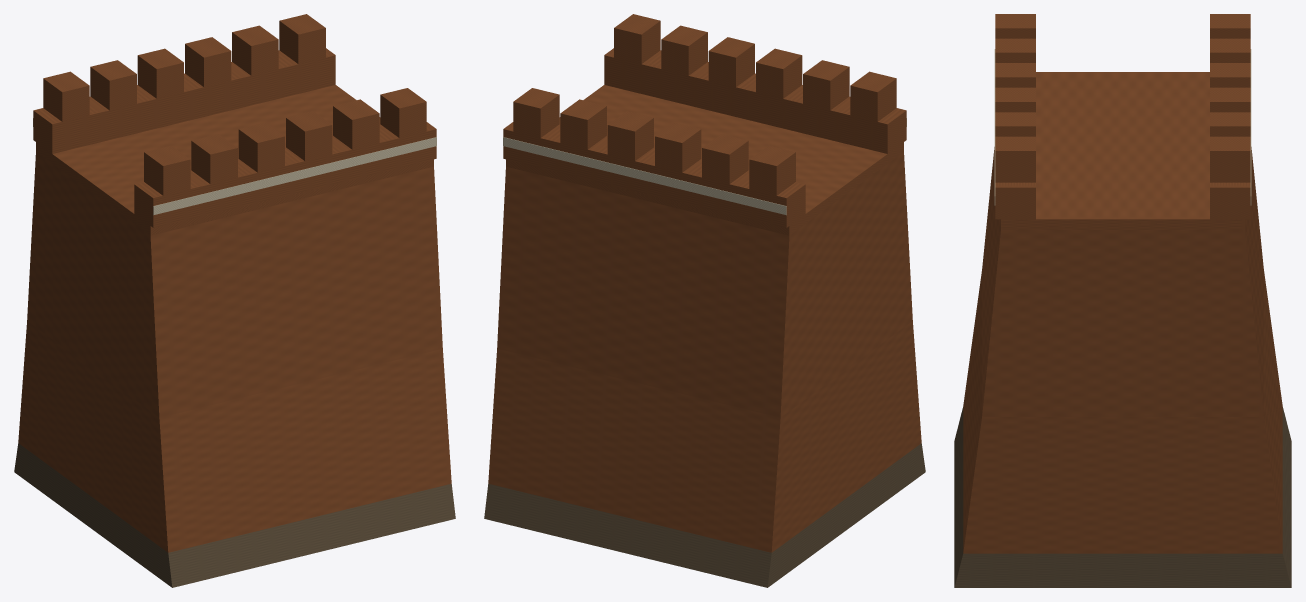
The model's file is Berber_Wall_Age2_straight_6m.fbx.
The picture shows the model from 3 angles, left to right: view 1: azimuth 30°, elevation 25°; view 2: azimuth 150°, elevation 25°; view 3: azimuth 270°, elevation 25°; orthographic projection. The views are drawn at different scales.
Visible parts, largest first — view 1: straight_6m_rammed_curtain_upper, straight_6m_rammed_curtain_lower, straight_6m_battered_stone_foot, straight_6m_walk_deck, straight_6m_parapet.001, straight_6m_parapet, straight_6m_owner_painted_band, straight_6m_merlon.002, straight_6m_merlon.006, straight_6m_merlon.007, straight_6m_merlon.004, straight_6m_merlon.011 (+7 smaller); view 2: straight_6m_rammed_curtain_upper, straight_6m_rammed_curtain_lower, straight_6m_battered_stone_foot, straight_6m_walk_deck, straight_6m_parapet, straight_6m_parapet.001, straight_6m_owner_painted_band.001, straight_6m_merlon, straight_6m_merlon.008, straight_6m_merlon.001, straight_6m_merlon.005, straight_6m_merlon.010 (+7 smaller); view 3: straight_6m_rammed_curtain_upper, straight_6m_rammed_curtain_lower, straight_6m_walk_deck, straight_6m_battered_stone_foot, straight_6m_merlon.005, straight_6m_merlon.011, straight_6m_parapet, straight_6m_parapet.001, straight_6m_merlon.003, straight_6m_merlon.009, straight_6m_merlon, straight_6m_merlon.001 (+6 smaller).
Boxes of the visible parts, left/top/right/bottom form: straight_6m_rammed_curtain_upper: left=27, top=152, right=442, bottom=417; straight_6m_rammed_curtain_lower: left=18, top=321, right=451, bottom=552; straight_6m_battered_stone_foot: left=14, top=443, right=455, bottom=587; straight_6m_walk_deck: left=36, top=85, right=433, bottom=235; straight_6m_parapet.001: left=33, top=48, right=335, bottom=153; straight_6m_parapet: left=134, top=122, right=436, bottom=227; straight_6m_owner_painted_band: left=153, top=137, right=436, bottom=215; straight_6m_merlon.002: left=238, top=122, right=284, bottom=172; straight_6m_merlon.006: left=43, top=71, right=89, bottom=121; straight_6m_merlon.007: left=90, top=60, right=136, bottom=110; straight_6m_merlon.004: left=333, top=99, right=379, bottom=149; straight_6m_merlon.011: left=279, top=14, right=325, bottom=64; straight_6m_rammed_curtain_upper: left=497, top=152, right=912, bottom=417; straight_6m_rammed_curtain_lower: left=488, top=321, right=921, bottom=552; straight_6m_battered_stone_foot: left=484, top=443, right=925, bottom=587; straight_6m_walk_deck: left=506, top=85, right=903, bottom=235; straight_6m_parapet: left=604, top=48, right=906, bottom=153; straight_6m_parapet.001: left=503, top=122, right=805, bottom=227; straight_6m_owner_painted_band.001: left=503, top=137, right=786, bottom=215; straight_6m_merlon: left=850, top=71, right=896, bottom=121; straight_6m_merlon.008: left=655, top=122, right=701, bottom=172; straight_6m_merlon.001: left=803, top=60, right=849, bottom=110; straight_6m_merlon.005: left=614, top=14, right=660, bottom=64; straight_6m_merlon.010: left=560, top=99, right=606, bottom=149; straight_6m_rammed_curtain_upper: left=982, top=147, right=1263, bottom=416; straight_6m_rammed_curtain_lower: left=963, top=271, right=1282, bottom=553; straight_6m_walk_deck: left=1001, top=72, right=1244, bottom=229; straight_6m_battered_stone_foot: left=954, top=407, right=1291, bottom=587; straight_6m_merlon.005: left=995, top=136, right=1035, bottom=182; straight_6m_merlon.011: left=1210, top=136, right=1250, bottom=182; straight_6m_parapet: left=995, top=182, right=1035, bottom=219; straight_6m_parapet.001: left=1210, top=182, right=1250, bottom=219; straight_6m_merlon.003: left=995, top=87, right=1035, bottom=112; straight_6m_merlon.009: left=1210, top=87, right=1250, bottom=112; straight_6m_merlon: left=995, top=14, right=1035, bottom=38; straight_6m_merlon.001: left=995, top=38, right=1035, bottom=62.
Size of the model in its own units: 600 by 820 by 580.
3 materials, 3 textured.
